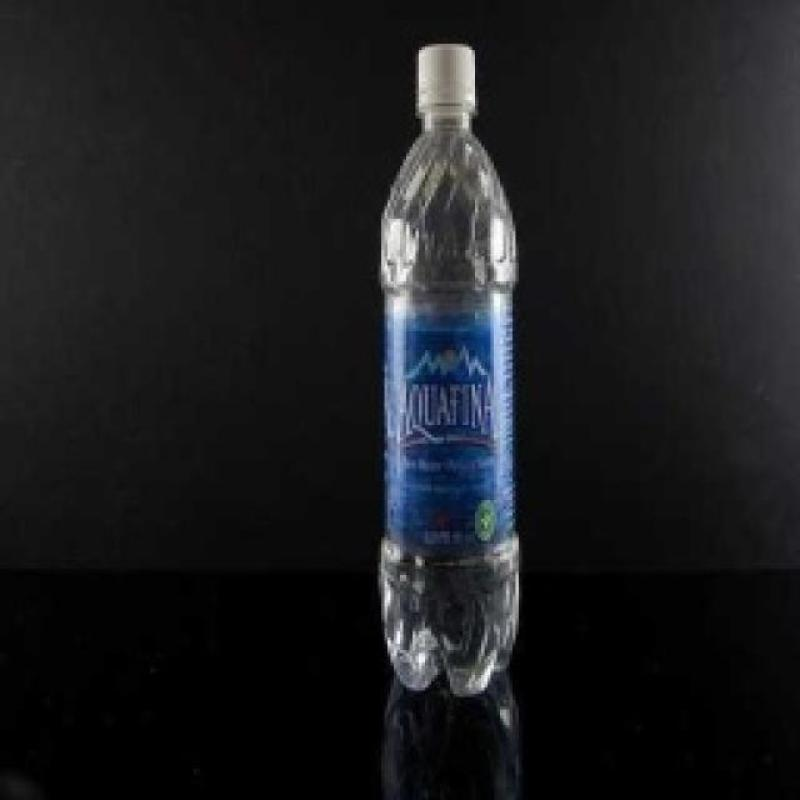botella: (380, 43, 540, 705)
